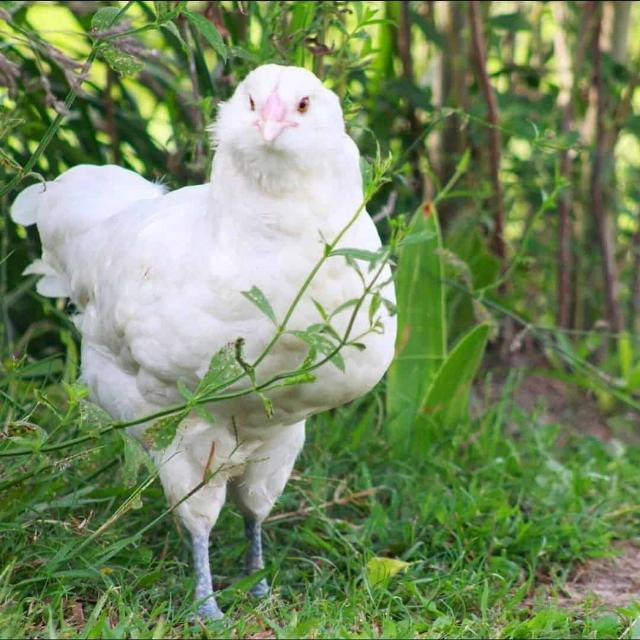Chicken: (12, 63, 398, 624)
